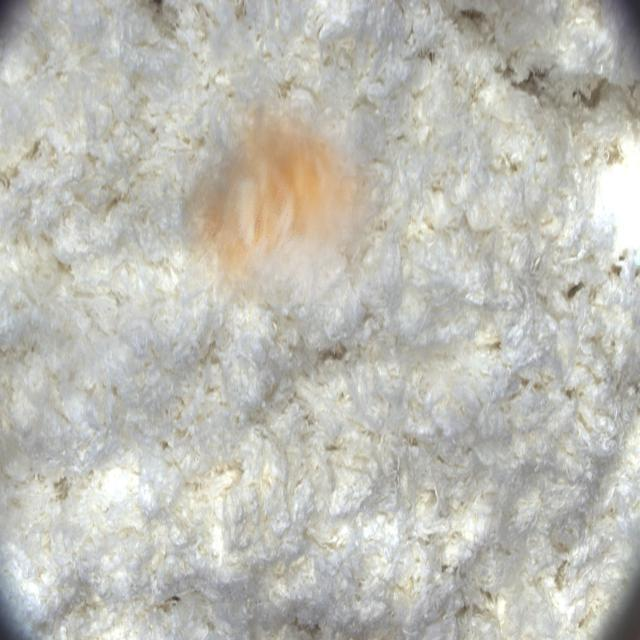dust: (182, 72, 396, 304)
